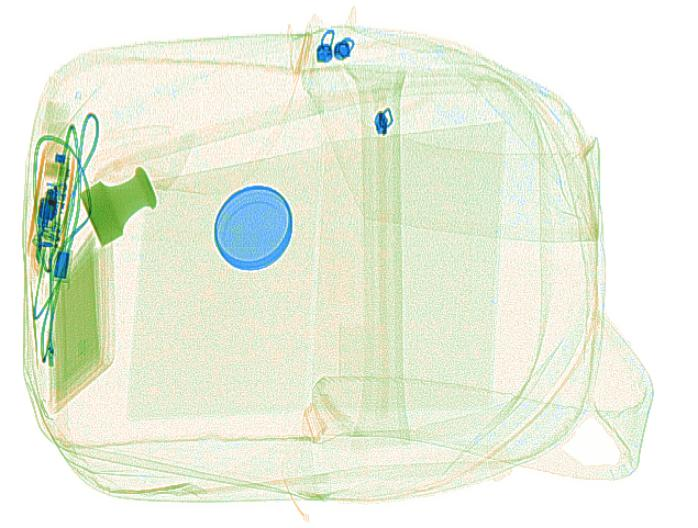seal: (80, 166, 158, 246)
